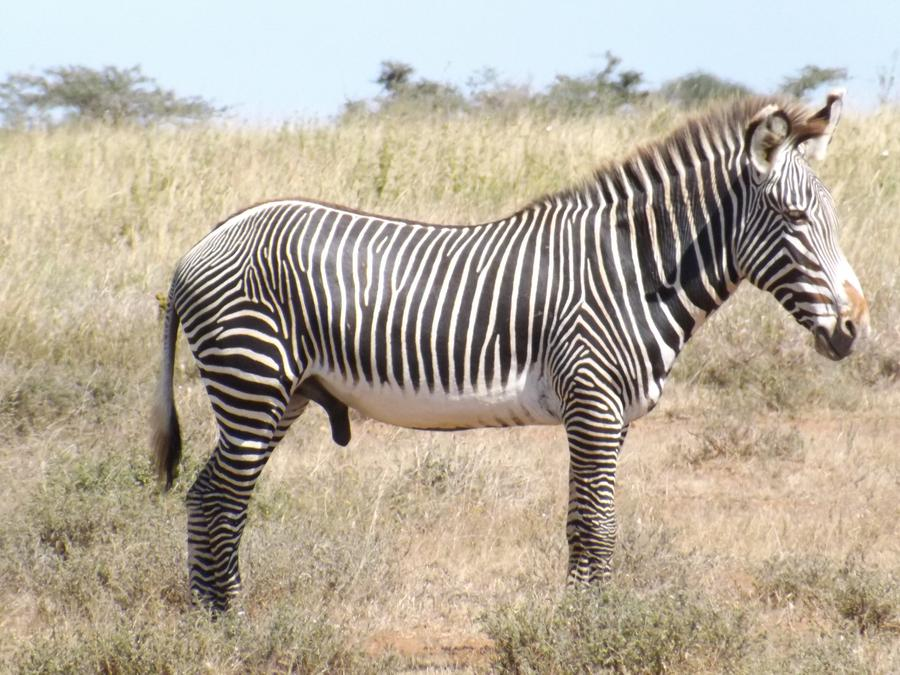zebra_grevys: (158, 163, 632, 431)
